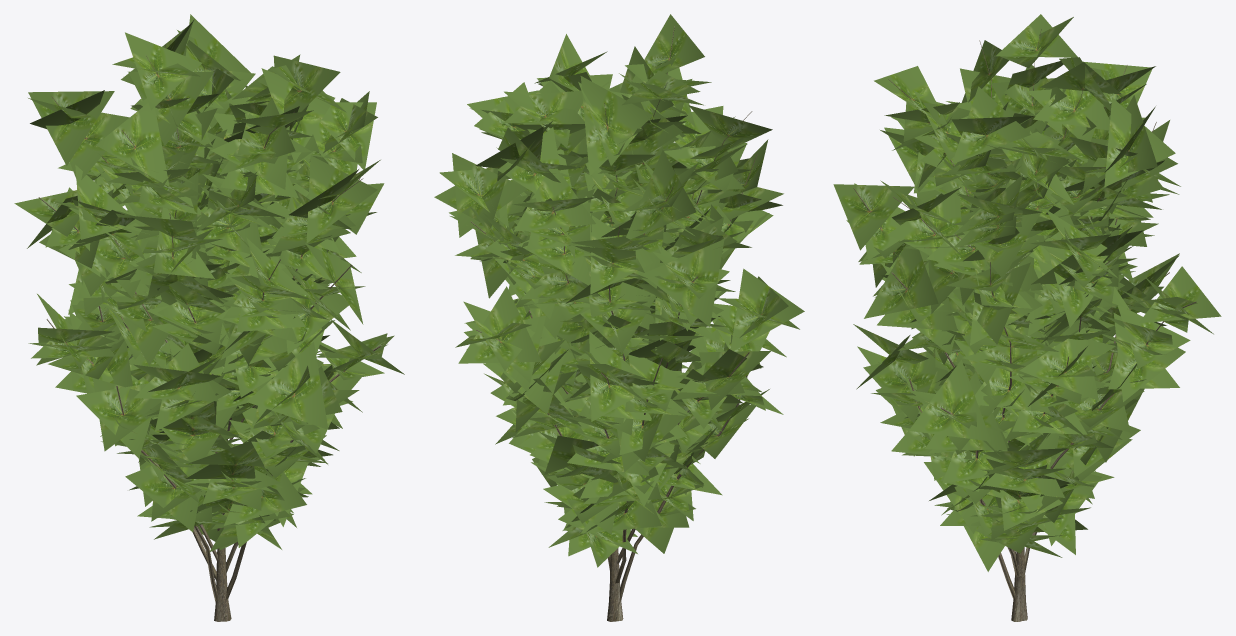
Rendered from Ligustrum_Ovalifolium_Autumn_Adult.glb.
3 renders of one model, left to right at view 1: azimuth 30°, elevation 25°; view 2: azimuth 150°, elevation 25°; view 3: azimuth 270°, elevation 25°, orthographic. The views are drawn at different scales.
Visible parts, largest first — view 1: Ligustrum_Ovalifolium_Autumn_Adult__LOD3; view 2: Ligustrum_Ovalifolium_Autumn_Adult__LOD3; view 3: Ligustrum_Ovalifolium_Autumn_Adult__LOD3.
Part boxes in pixels (<box>): Ligustrum_Ovalifolium_Autumn_Adult__LOD3: <box>14,14,404,621</box>; Ligustrum_Ovalifolium_Autumn_Adult__LOD3: <box>434,14,804,621</box>; Ligustrum_Ovalifolium_Autumn_Adult__LOD3: <box>833,14,1221,621</box>.
Size of the model in its own units: 1.59 by 2.74 by 1.69.
2 materials, 2 textured.
